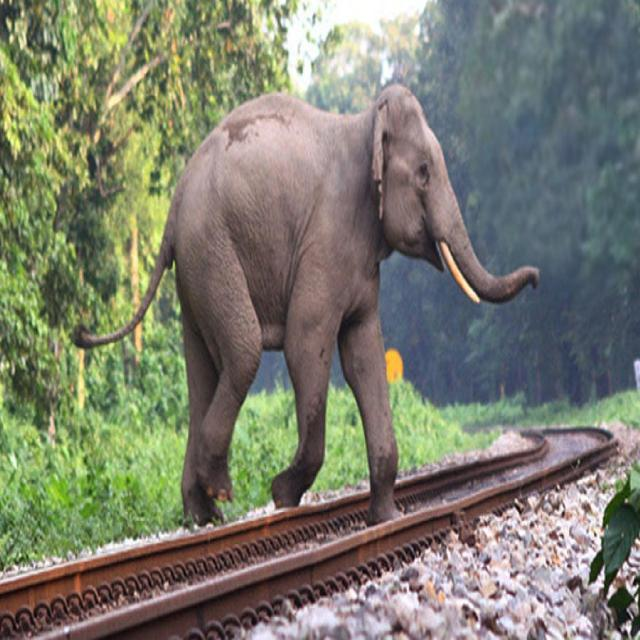Elephant: (66, 81, 542, 542)
